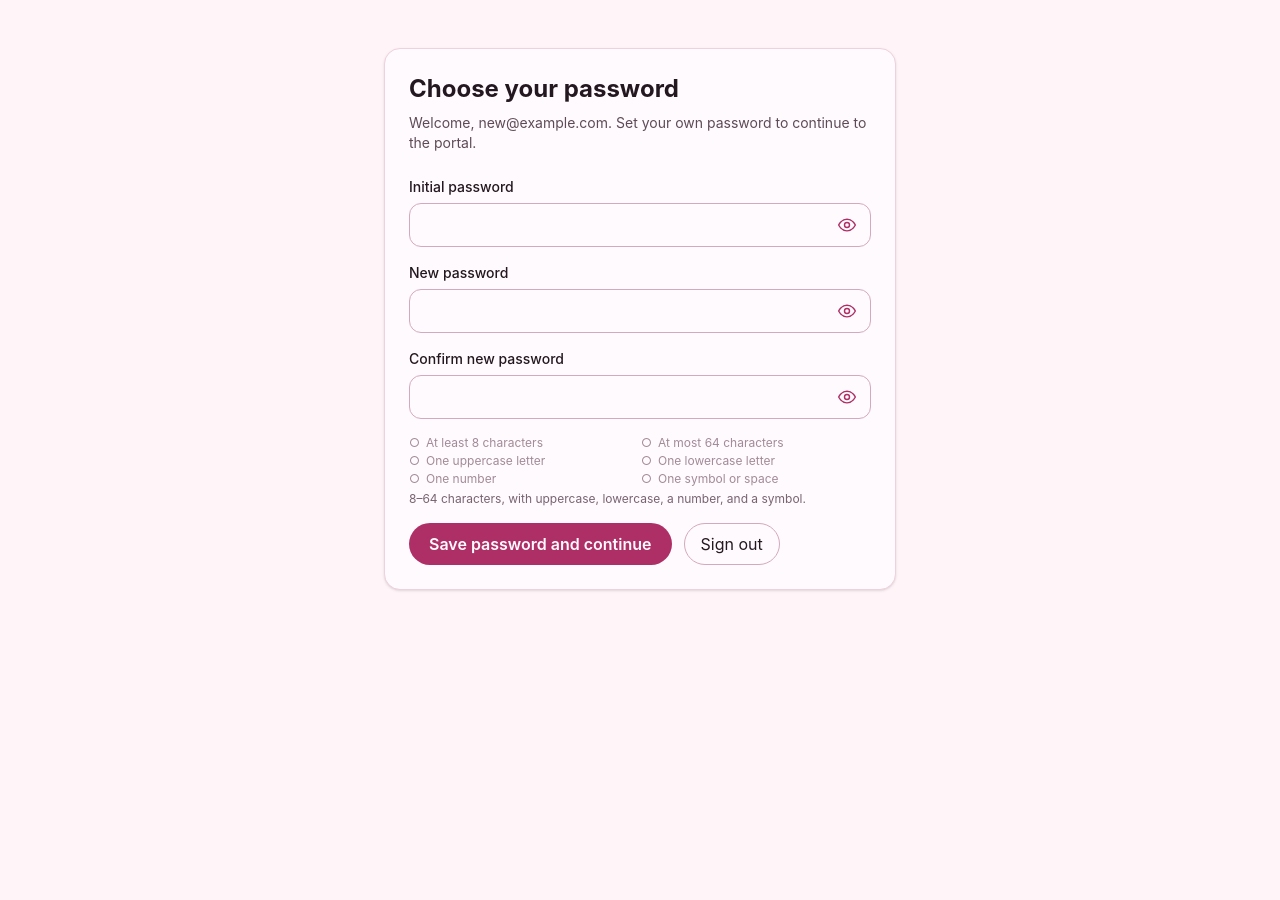
it: restores a first-sign-in session to password setup and uses the replacement session to enter the portal
The image size is (1280, 900).
Expected: the heading "Choose your password" is shown, [409, 74, 679, 103]
Type "Initial123!" into the password field labelled "Initial password".
click(640, 225); type("Initial123!")  # box [409, 203, 871, 247]
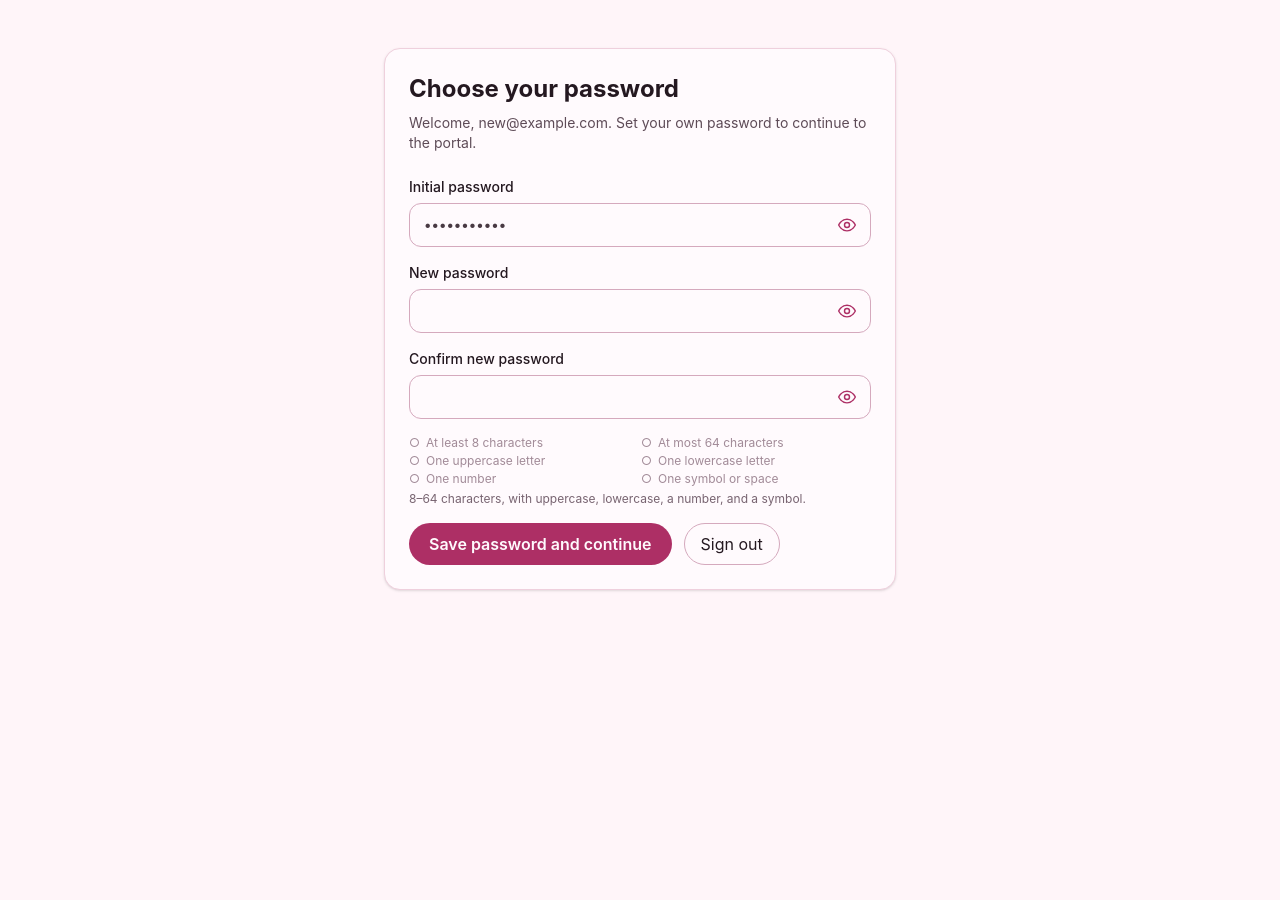
Type "OwnPassword123!" into the password field labelled "New password".
click(640, 311); type("OwnPassword123!")  # box [409, 289, 871, 333]
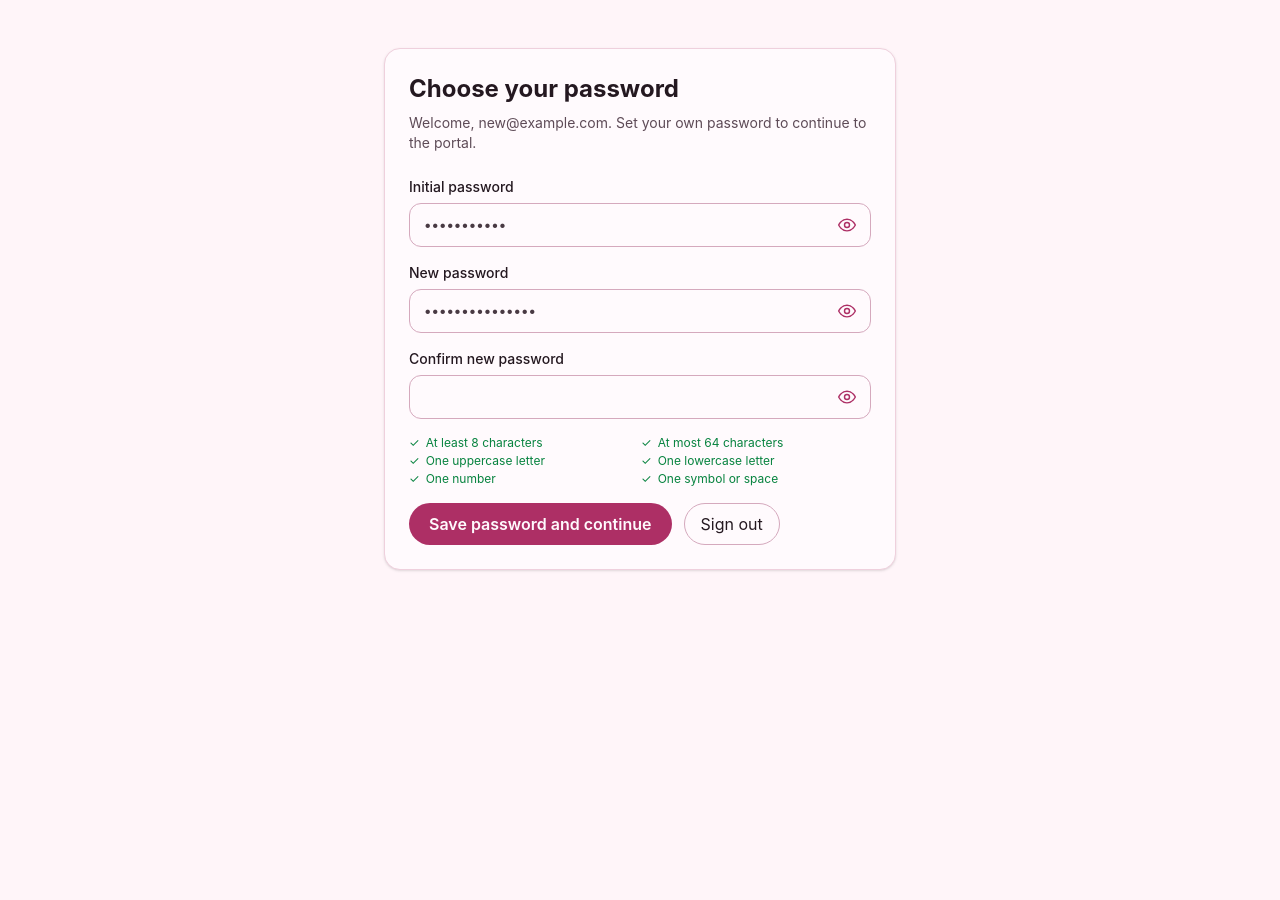
Type "OwnPassword123!" into the password field labelled "Confirm new password".
click(640, 397); type("OwnPassword123!")  # box [409, 375, 871, 419]
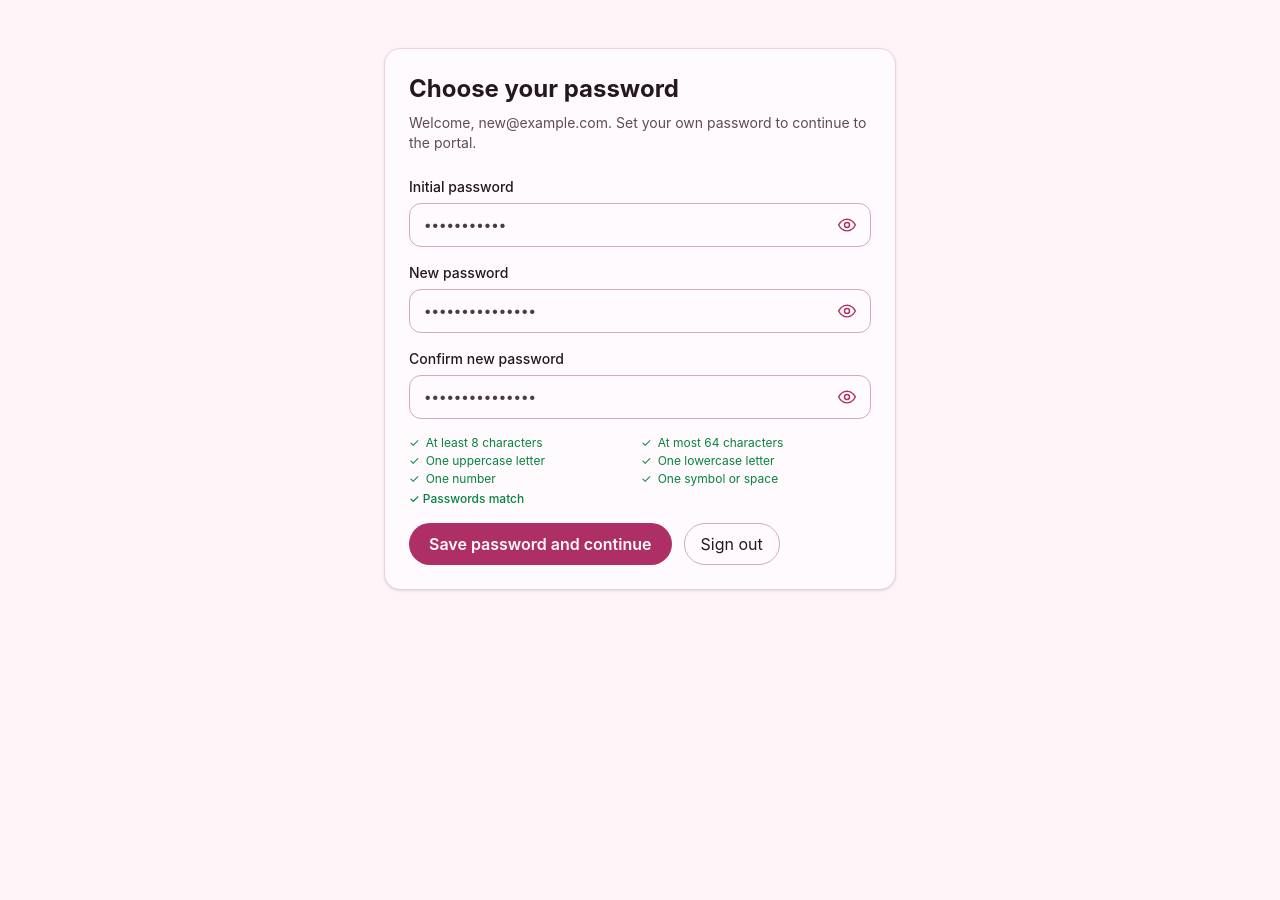
Submit the form named "Save password and continue", box [409, 177, 871, 565]
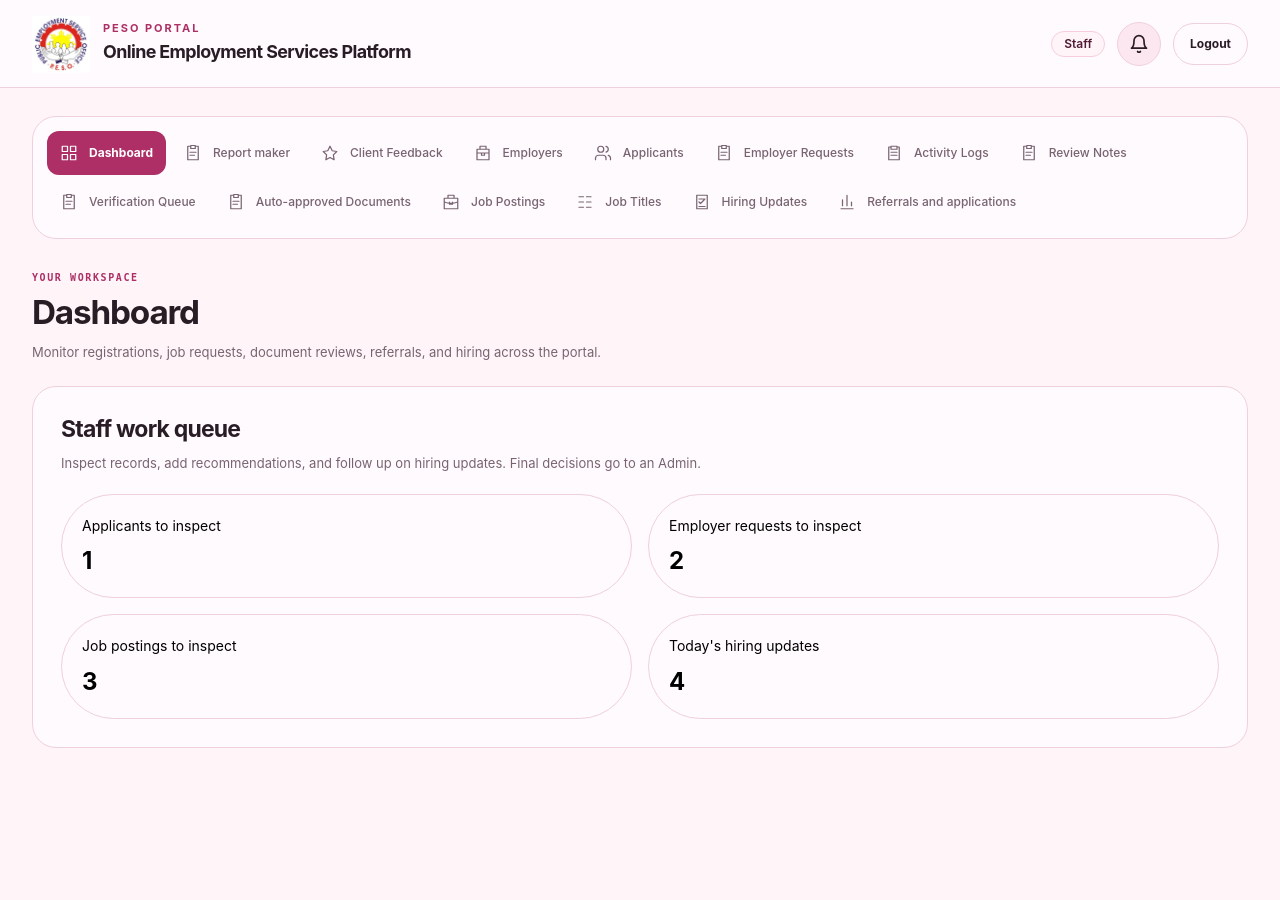
Now the heading "Staff work queue" is shown, box [61, 415, 240, 443]
